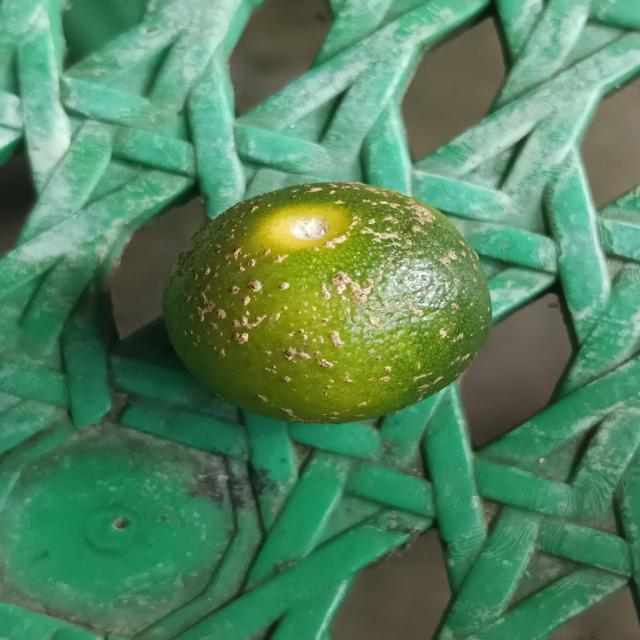scab: (153, 175, 498, 427)
